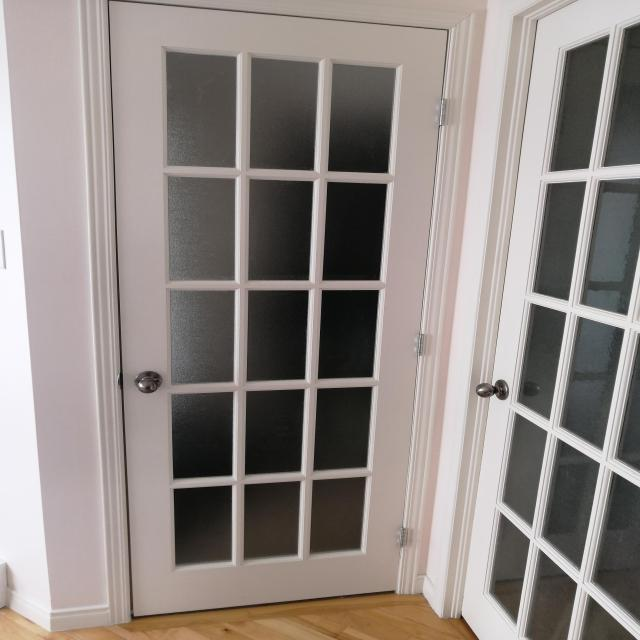door-knob: (475, 380, 508, 400), (135, 371, 163, 394)
